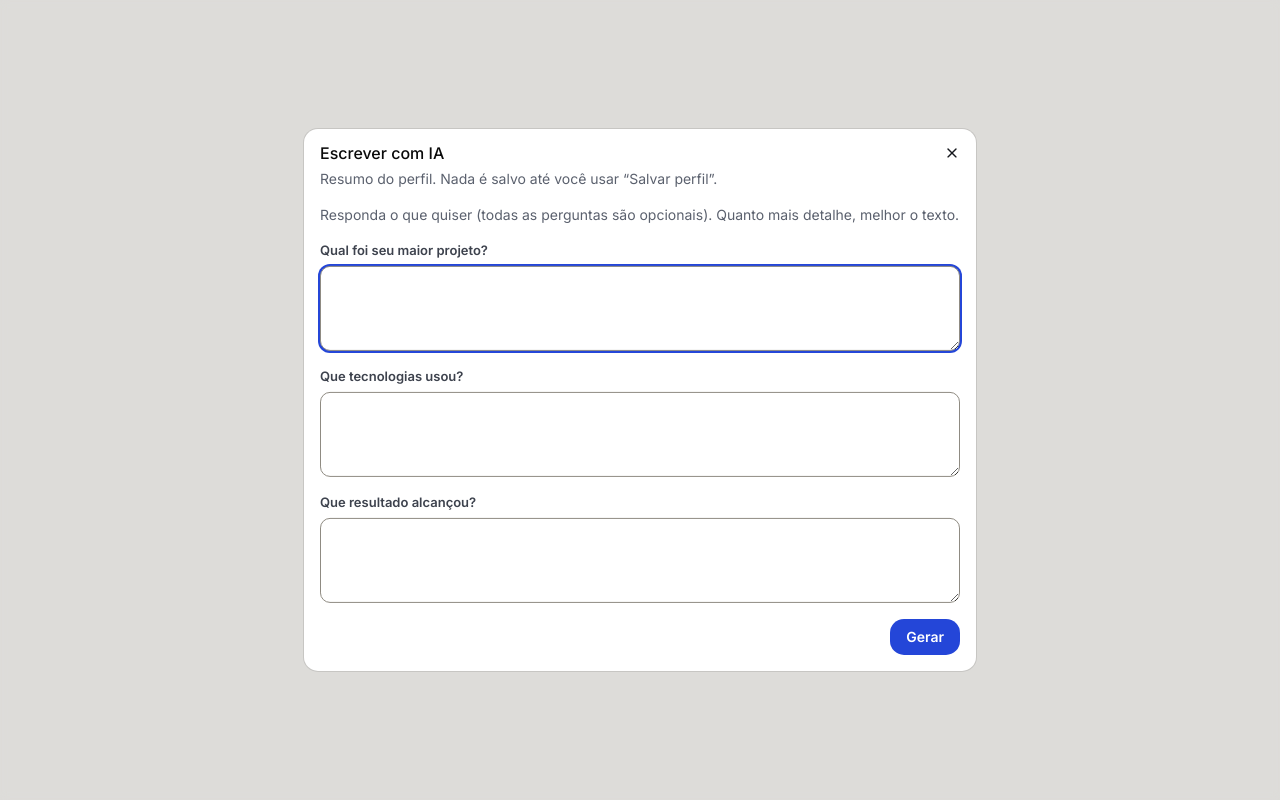
Test: AssistantDialog: entrevista › mostra 3 perguntas, manda as puladas como string vazia e insere o texto editado
This screenshot has width=1280, height=800.
Later steps or results of the test are not shown.
Step 1. Type "Fiz um app" into the text box labelled "Qual foi seu maior projeto?" → (640, 308), box [320, 266, 960, 351]
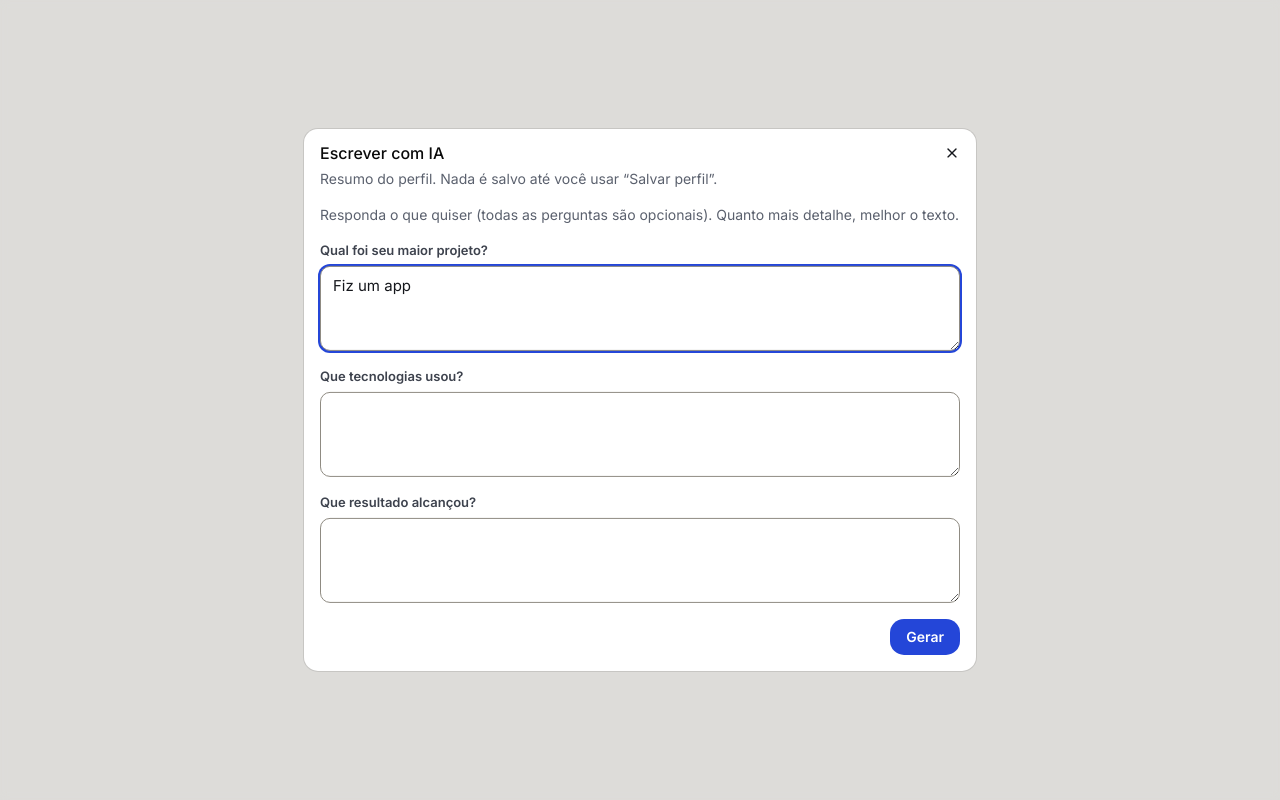
Step 2. Click the button "Gerar" → click(925, 637), box [890, 619, 960, 655]
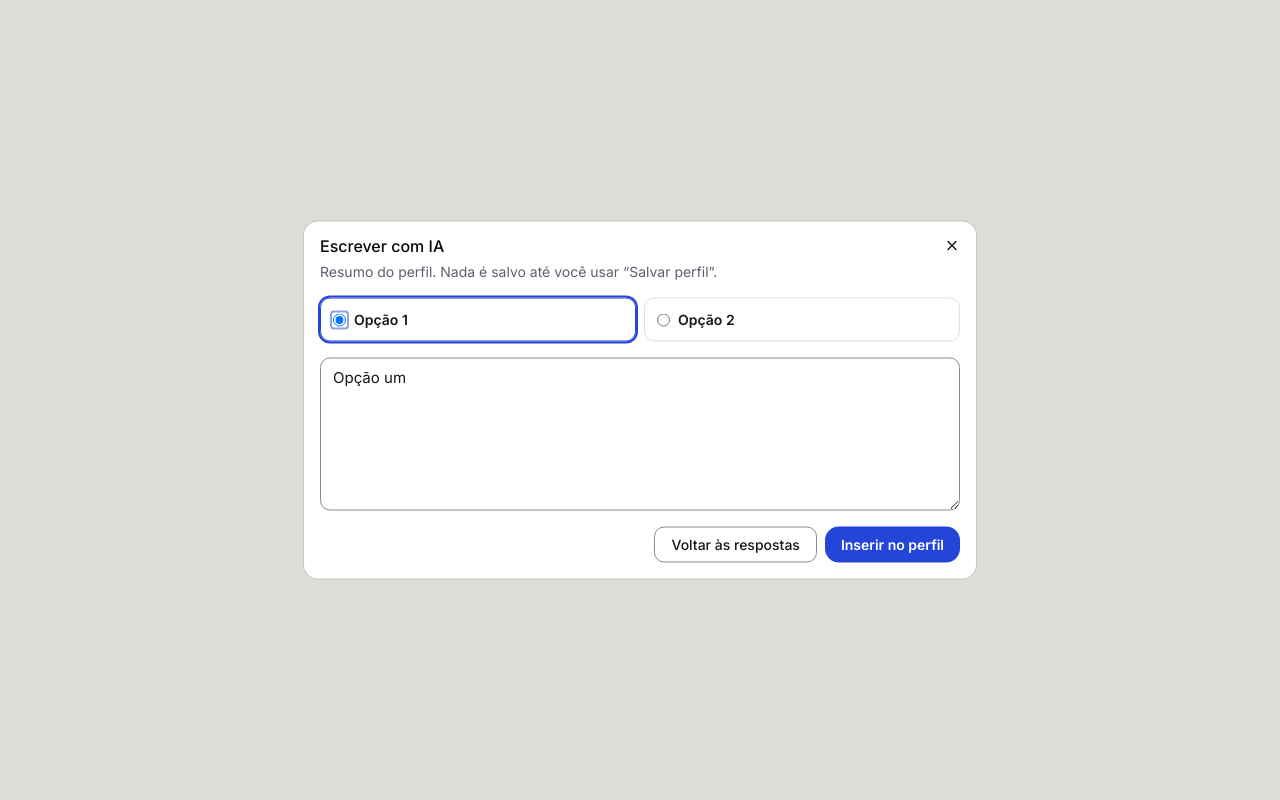
expect the element showing "Opção 1 Opção 2" is shown: met, box [320, 298, 960, 342]
expect the number of radio buttons is 2: met
Step 3. Click the radio button labelled "Opção 2" → click(664, 320), box [657, 313, 670, 326]
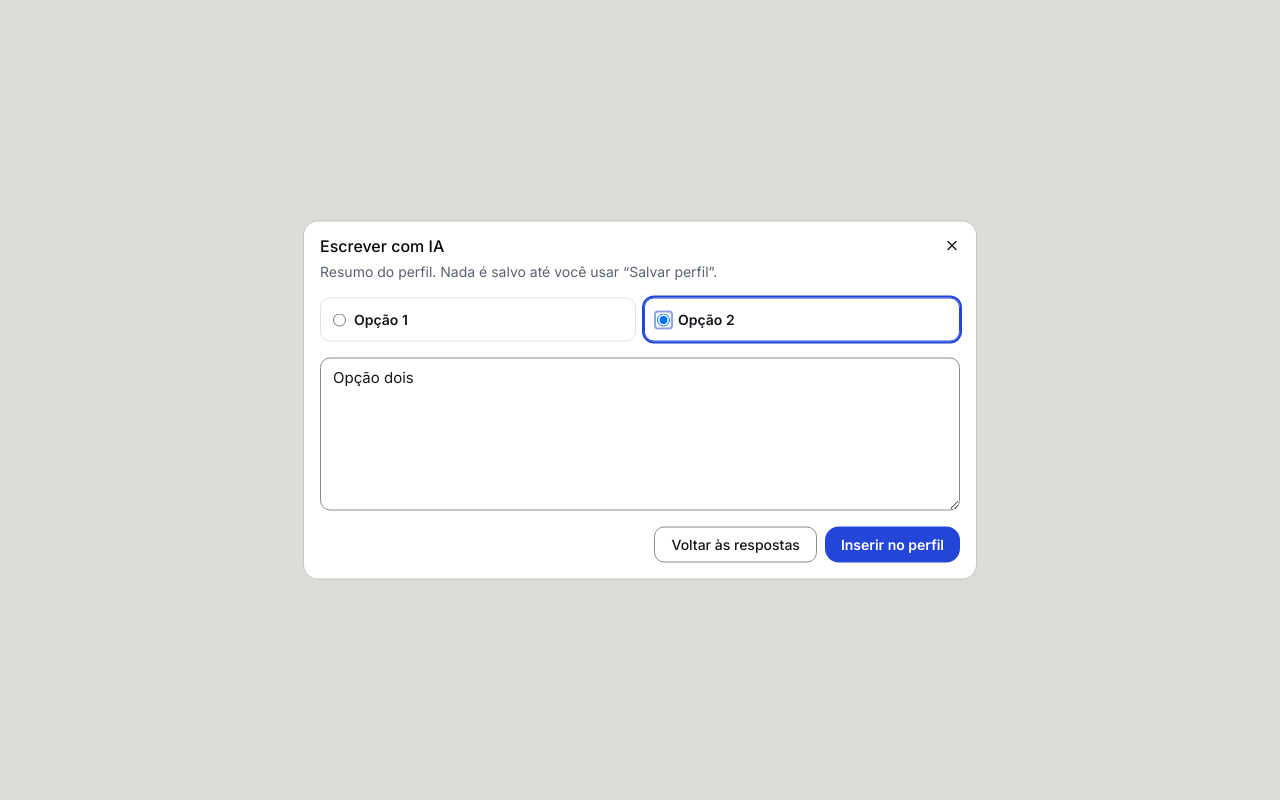
expect the text box holds "Opção dois": met, box [320, 358, 960, 510]
